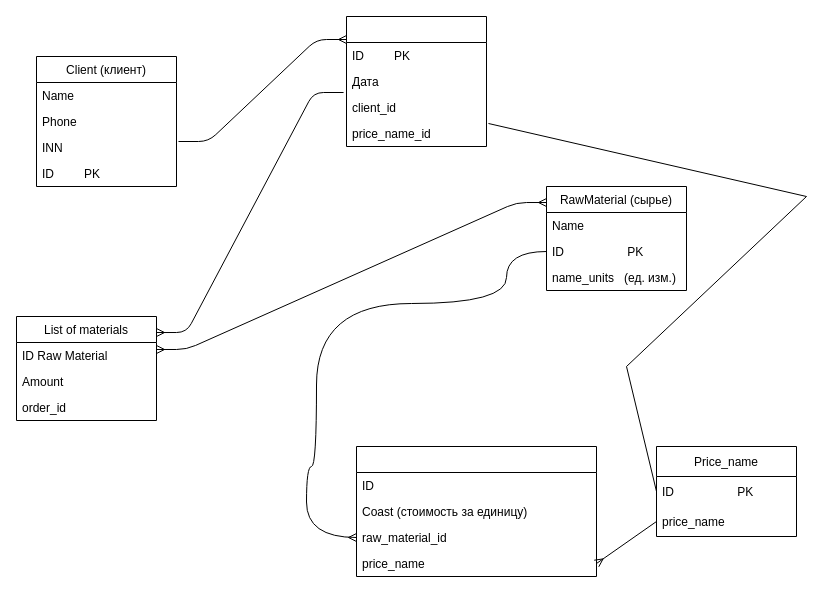
The diagram is 823 pixels wide and 593 high, and some of its shapes have lost their labels. The box of each missing label's shape, as (x1, y1, x2, y2) in pixels:
Orders (заказ): (346, 16, 486, 146)
Price (стоимость): (356, 446, 596, 576)
